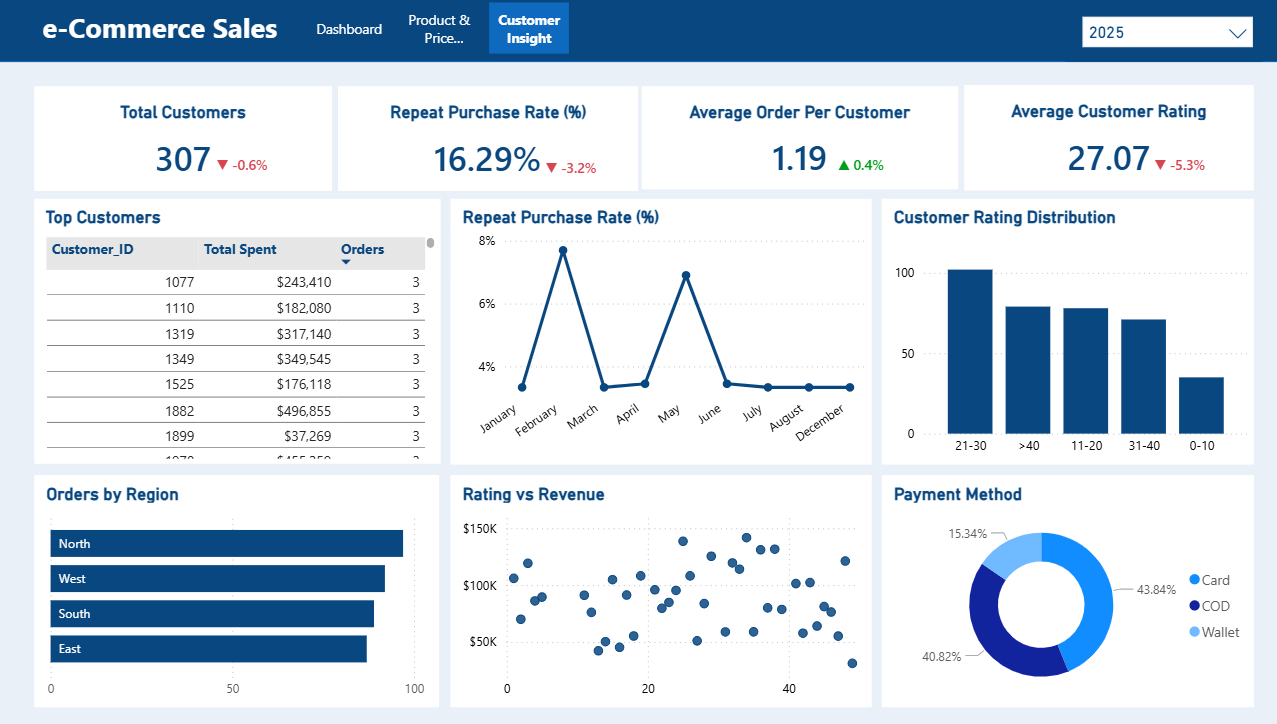

The page's visual inventory and layout, read from the dashboard file:
{"tool":"powerbi","page":{"name":"Customer Insight","canvas":[1280,720],"ordinal":2},"visuals":[{"type":"cardVisual","title":"Repeat Purchase Rate (%)","fields":{"Data":["ecommerce_sales_analytics_5000.Repeat Purchase Rate"]},"box":[342.4,89.4,293.5,102.4],"z":0},{"type":"shape","box":[0,0,1280,65.7],"z":1000},{"type":"textbox","box":[11,8.6,292.3,50.1],"z":2000},{"type":"cardVisual","title":"Total Customers","fields":{"Data":["Count(ecommerce_sales_analytics_5000.customer_id)"]},"box":[45,88.8,291.2,102.5],"z":3000},{"type":"cardVisual","title":"Average Order Per Customer","fields":{"Data":["ecommerce_sales_analytics_5000.AverageOrder Per Customer"]},"box":[640,89.4,309.4,101.2],"z":4000},{"type":"cardVisual","title":"Average Customer Rating","fields":{"Data":["ecommerce_sales_analytics_5000.Avg_Cust_Rating"]},"box":[954.6,88.5,283.1,103.1],"z":5000},{"type":"slicer","title":"Year","fields":{"Values":["ecommerce_sales_analytics_5000.order_date.Variation.Date Hierarchy.Year"]},"box":[1054.3,8.6,192.9,57.1],"z":6000},{"type":"textbox","box":[22,8.6,292.3,50.1],"z":7000},{"type":"pageNavigator","box":[314.3,7.3,256.8,50.1],"z":8000},{"type":"tableEx","title":"Top Customers","fields":{"Values":["ecommerce_sales_analytics_5000.customer_id","Sum(ecommerce_sales_analytics_5000.revenue)","Count(ecommerce_sales_analytics_5000.order_id)"]},"box":[45.5,199.1,397.3,259.1],"z":9000},{"type":"lineChart","title":"Repeat Purchase Rate (%)","fields":{"Category":["ecommerce_sales_analytics_5000.order_date.Variation.Date Hierarchy.Month"],"Y":["ecommerce_sales_analytics_5000.Repeat Purchase Rate"]},"box":[452.7,199.1,411.8,260],"z":10000},{"type":"clusteredColumnChart","title":"Customer Rating Distribution","fields":{"Y":["CountNonNull(ecommerce_sales_analytics_5000.order_id)"],"Category":["ecommerce_sales_analytics_5000.Rating Range"]},"box":[873.8,198.8,363.8,260],"z":11000},{"type":"clusteredBarChart","title":"Orders by Region","fields":{"Category":["ecommerce_sales_analytics_5000.region"],"Y":["CountNonNull(ecommerce_sales_analytics_5000.order_id)"]},"box":[45.2,469.6,396.2,227.4],"z":12000},{"type":"scatterChart","title":"Rating vs Revenue","fields":{"Y":["Avg(ecommerce_sales_analytics_5000.revenue)"],"Category":["ecommerce_sales_analytics_5000.customer_rating"],"X":["Avg(ecommerce_sales_analytics_5000.customer_rating)"]},"box":[453,470,412,227],"z":13000},{"type":"donutChart","title":"Payment Method","fields":{"Category":["ecommerce_sales_analytics_5000.payment_method"],"Y":["CountNonNull(ecommerce_sales_analytics_5000.order_id)"]},"box":[874,470,364,227],"z":14000},{"type":"cardVisual","fields":{"Data":["ecommerce_sales_analytics_5000.Growth_customers_Display"]},"box":[190,140,118.6,50],"z":15000},{"type":"cardVisual","fields":{"Data":["ecommerce_sales_analytics_5000.Growth_RP_Display"]},"box":[511.4,141.4,118.6,50],"z":15001},{"type":"cardVisual","fields":{"Data":["ecommerce_sales_analytics_5000.Growth_CO_Display"]},"box":[794.3,140,118.6,50],"z":15002},{"type":"cardVisual","fields":{"Data":["ecommerce_sales_analytics_5000.Growth_avg_rating_Display"]},"box":[1107.1,140,118.6,50],"z":15003}]}

Visuals, with their boxes in screenshot pixels (x1, y1, x2, y2), scaled from the page's 1280x720 canvas onto the 1277x724 screenshot:
"Repeat Purchase Rate (%)" cardVisual: bbox(342, 90, 634, 193)
shape: bbox(0, 0, 1276, 66)
textbox: bbox(11, 9, 303, 59)
"Total Customers" cardVisual: bbox(45, 89, 335, 192)
"Average Order Per Customer" cardVisual: bbox(638, 90, 947, 192)
"Average Customer Rating" cardVisual: bbox(952, 89, 1235, 193)
"Year" slicer: bbox(1052, 9, 1244, 66)
textbox: bbox(22, 9, 314, 59)
pageNavigator: bbox(314, 7, 570, 58)
"Top Customers" tableEx: bbox(45, 200, 442, 461)
"Repeat Purchase Rate (%)" lineChart: bbox(452, 200, 862, 462)
"Customer Rating Distribution" clusteredColumnChart: bbox(872, 200, 1235, 461)
"Orders by Region" clusteredBarChart: bbox(45, 472, 440, 701)
"Rating vs Revenue" scatterChart: bbox(452, 473, 863, 701)
"Payment Method" donutChart: bbox(872, 473, 1235, 701)
cardVisual - ecommerce_sales_analytics_5000.Growth_customers_Display: bbox(190, 141, 308, 191)
cardVisual - ecommerce_sales_analytics_5000.Growth_RP_Display: bbox(510, 142, 629, 192)
cardVisual - ecommerce_sales_analytics_5000.Growth_CO_Display: bbox(792, 141, 911, 191)
cardVisual - ecommerce_sales_analytics_5000.Growth_avg_rating_Display: bbox(1105, 141, 1223, 191)
